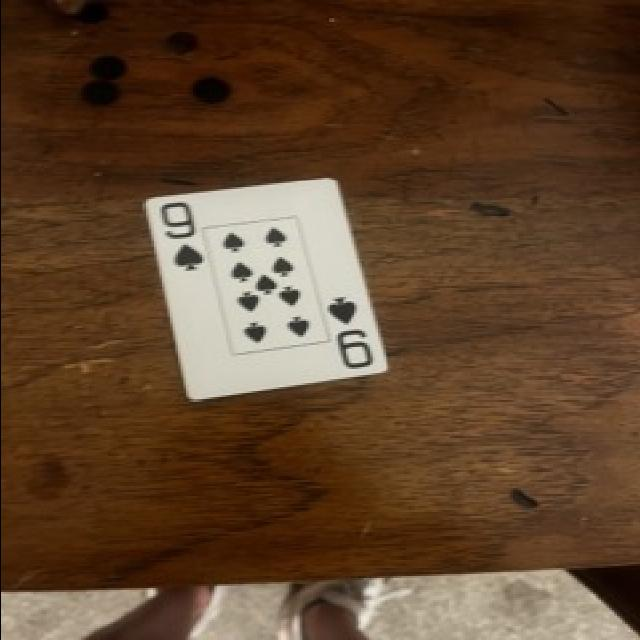9 of spades: (144, 181, 385, 400)
